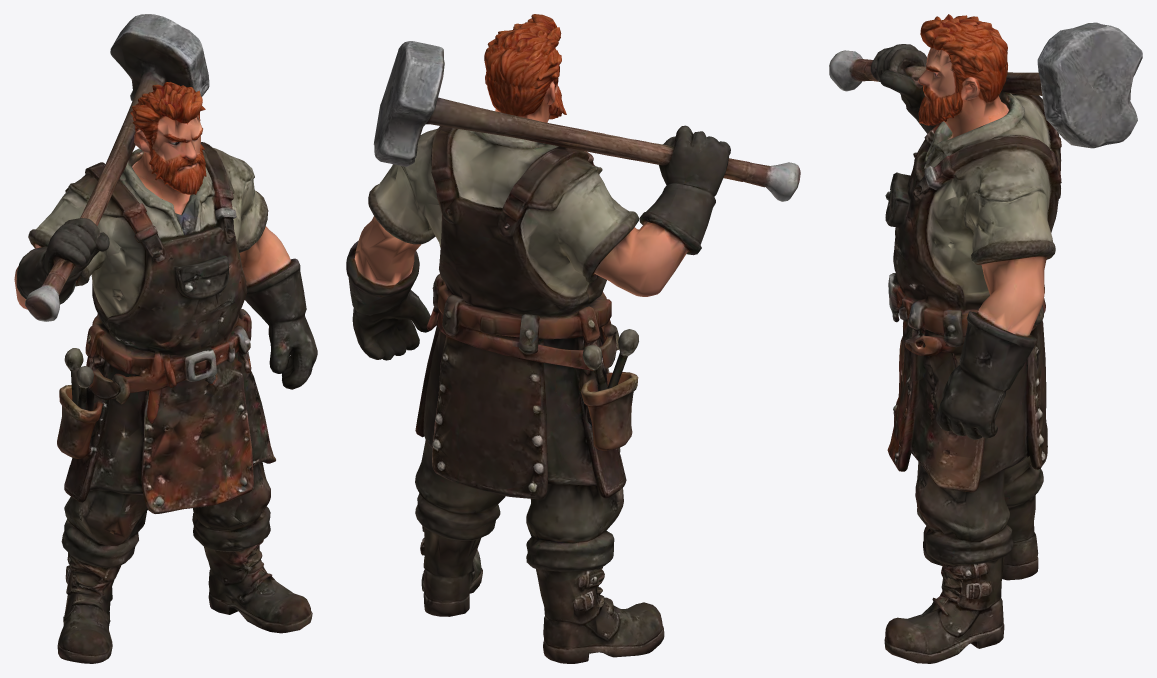
Rendered from kael154.glb.
The picture shows the model from 3 angles, left to right: view 1: azimuth 30°, elevation 25°; view 2: azimuth 150°, elevation 25°; view 3: azimuth 270°, elevation 25°; orthographic projection. The views are drawn at different scales.
Visible parts, largest first — view 1: tripo_node_7fe744e2-e42e-4904-8857-4812c8e211f0; view 2: tripo_node_7fe744e2-e42e-4904-8857-4812c8e211f0; view 3: tripo_node_7fe744e2-e42e-4904-8857-4812c8e211f0.
Part boxes in pixels (x1,y1,x2,y2): tripo_node_7fe744e2-e42e-4904-8857-4812c8e211f0: (14, 14, 317, 663); tripo_node_7fe744e2-e42e-4904-8857-4812c8e211f0: (346, 14, 800, 663); tripo_node_7fe744e2-e42e-4904-8857-4812c8e211f0: (829, 14, 1142, 663).
Size of the model in its own units: 0.6324 by 0.9795 by 0.4615.
Materials: 1 (1 with a texture image).
